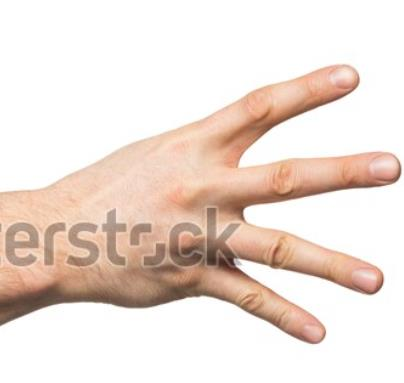right: (55, 58, 402, 344)
